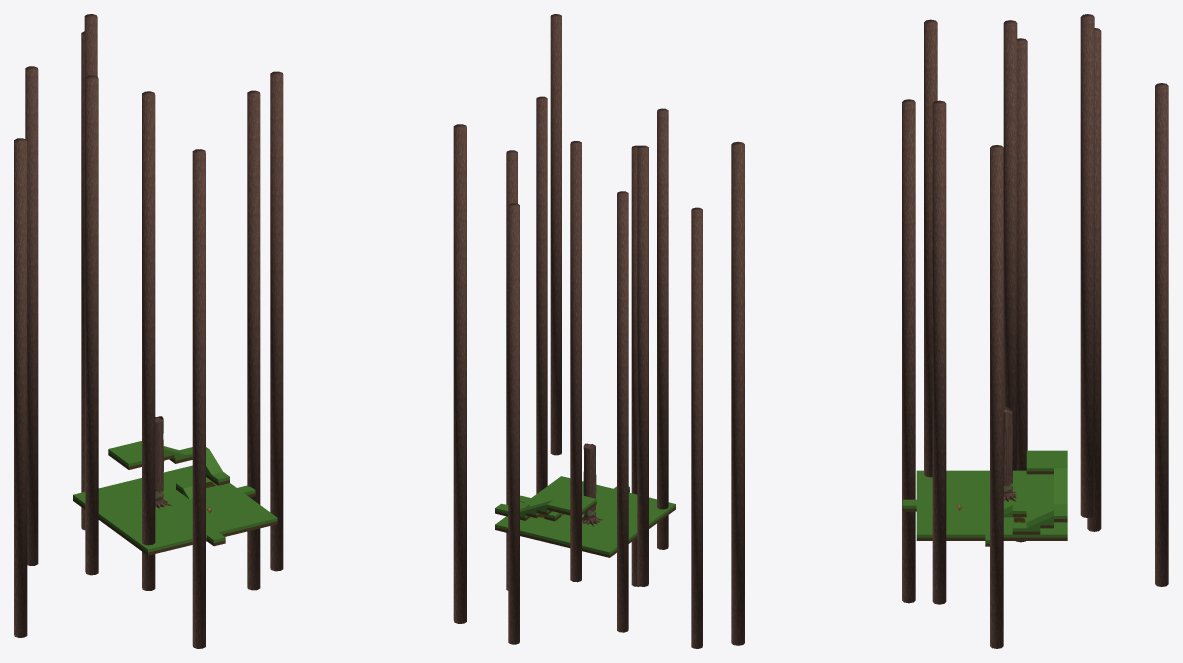
Rendered from World.glb.
The picture shows the model from 3 angles, left to right: view 1: azimuth 30°, elevation 25°; view 2: azimuth 150°, elevation 25°; view 3: azimuth 270°, elevation 25°; orthographic projection. The views are drawn at different scales.
Parts seen in each view (by area): view 1: terrain_block.001, pine_80m.005, pine_80m.004, pine_80m.009, pine_80m.007, pine_80m.010, pine_80m.002, pine_80m.001, pine_80m.006, pine_80m.008, pine_80m.003, terrain_block.009 (+1 smaller); view 2: pine_80m.005, pine_80m.006, pine_80m.007, pine_80m.008, pine_80m.009, pine_80m.003, pine_80m.002, terrain_block.001, pine_80m.010, pine_80m.004, pine_80m.001, tree_rotten_top.001 (+1 smaller); view 3: pine_80m.010, pine_80m.003, pine_80m.001, pine_80m.008, pine_80m.009, pine_80m.004, terrain_block.001, pine_80m.005, pine_80m.007, pine_80m.002, pine_80m.006, terrain_block.009 (+1 smaller).
Part boxes in pixels (left/top/right/bottom): terrain_block.001: left=73, top=465, right=277, bottom=555; pine_80m.005: left=85, top=75, right=98, bottom=575; pine_80m.004: left=192, top=149, right=205, bottom=648; pine_80m.009: left=453, top=124, right=466, bottom=623; pine_80m.007: left=14, top=138, right=27, bottom=637; pine_80m.010: left=270, top=71, right=283, bottom=571; pine_80m.002: left=142, top=91, right=155, bottom=590; pine_80m.001: left=247, top=90, right=260, bottom=590; pine_80m.006: left=25, top=66, right=38, bottom=565; pine_80m.008: left=81, top=31, right=85, bottom=530; pine_80m.003: left=84, top=14, right=97, bottom=511; terrain_block.009: left=108, top=441, right=164, bottom=469; pine_80m.005: left=637, top=145, right=648, bottom=586; pine_80m.006: left=617, top=191, right=628, bottom=632; pine_80m.007: left=691, top=207, right=702, bottom=648; pine_80m.008: left=508, top=203, right=519, bottom=644; pine_80m.009: left=550, top=14, right=561, bottom=455; pine_80m.003: left=570, top=141, right=581, bottom=582; pine_80m.002: left=657, top=108, right=668, bottom=549; terrain_block.001: left=495, top=476, right=675, bottom=557; pine_80m.010: left=536, top=96, right=547, bottom=493; pine_80m.004: left=631, top=145, right=640, bottom=586; pine_80m.001: left=506, top=150, right=517, bottom=590; tree_rotten_top.001: left=583, top=443, right=596, bottom=511; pine_80m.010: left=932, top=100, right=946, bottom=604; pine_80m.003: left=1080, top=14, right=1094, bottom=517; pine_80m.001: left=990, top=145, right=1003, bottom=648; pine_80m.008: left=1155, top=83, right=1168, bottom=586; pine_80m.009: left=731, top=141, right=744, bottom=645; pine_80m.004: left=902, top=99, right=915, bottom=603; terrain_block.001: left=916, top=470, right=1067, bottom=540; pine_80m.005: left=1003, top=20, right=1017, bottom=470; pine_80m.007: left=1016, top=38, right=1027, bottom=542; pine_80m.002: left=924, top=19, right=937, bottom=477; pine_80m.006: left=1087, top=28, right=1101, bottom=531; terrain_block.009: left=1026, top=450, right=1067, bottom=474.
Size of the model in its own units: 52.74 by 92.14 by 63.64.
6 materials, 3 textured.
